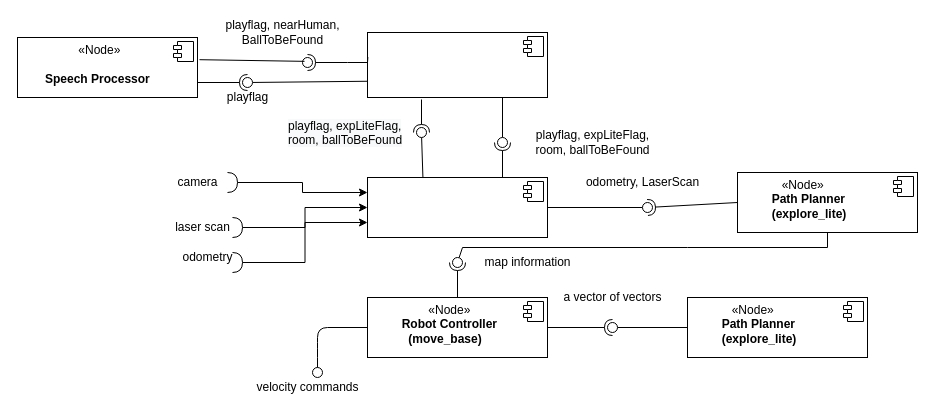
Some shapes in this 935 by 414 pixel diagram are drawn without their labels. The shapes that lost their labels are listed below. From the top down, each one's centre as x and y in pixels, then its label:
pixel 457 65: «Service» ROS Parameter Server
pixel 457 207: «Node» Command Manager
